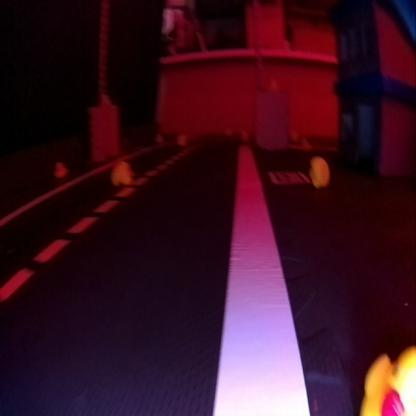Duckie: (360, 348, 414, 414), (111, 162, 133, 186), (311, 156, 328, 185), (53, 160, 64, 177)
QR code: (268, 169, 308, 185)
